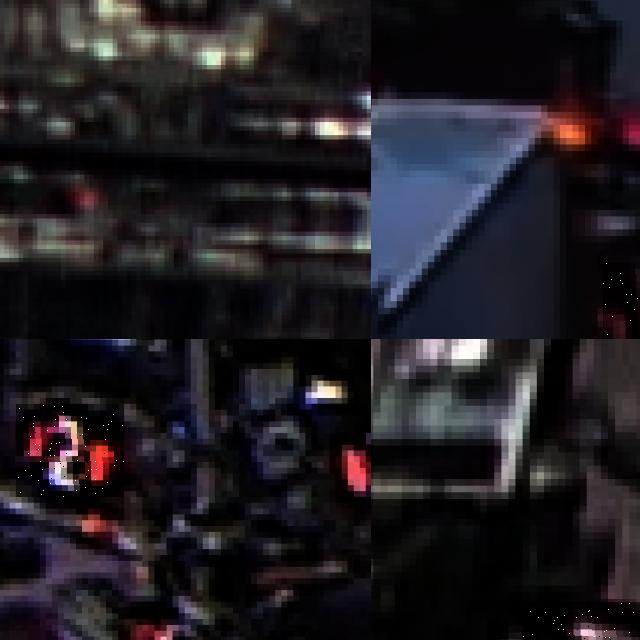R1: (522, 602, 640, 640)
R2: (16, 404, 124, 497), (335, 415, 371, 502)
